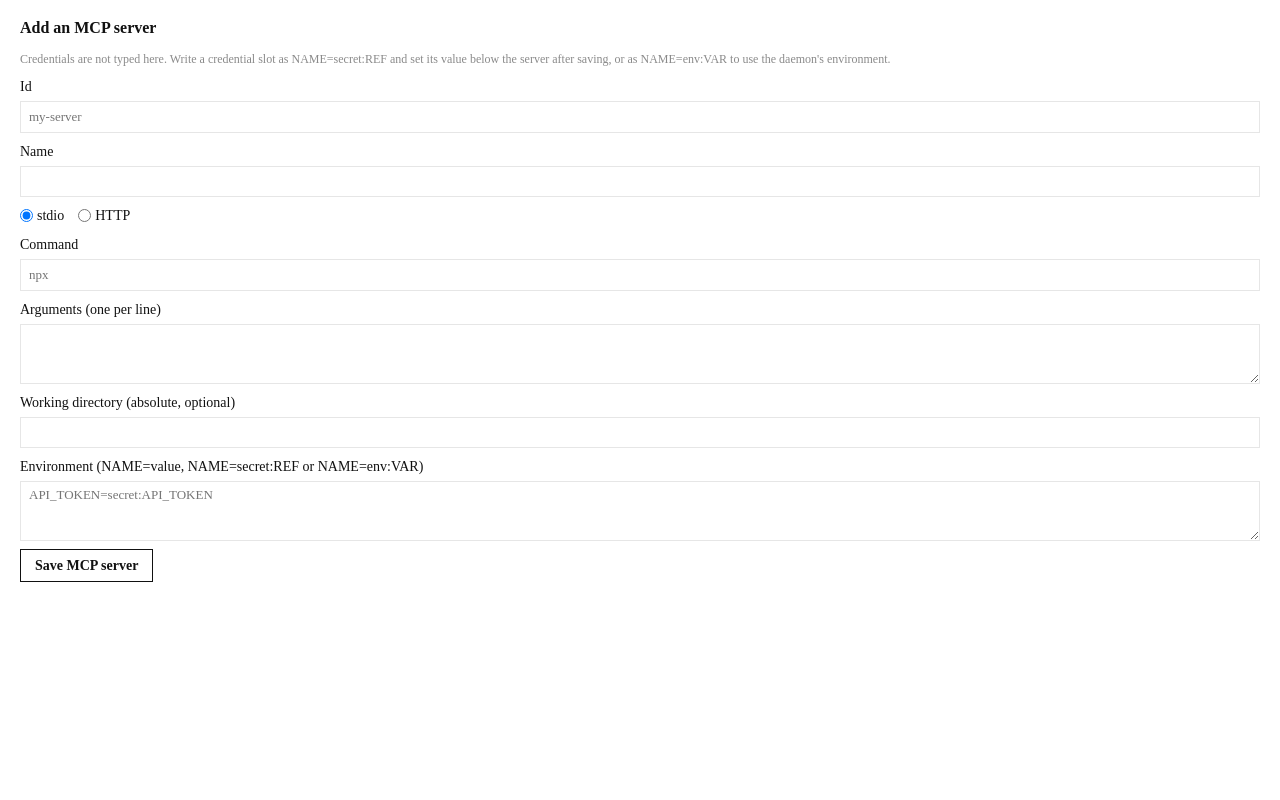
Test: McpServerForm › shows the hub's refusal
Type "search" into the field labelled "Id" at {"x": 640, "y": 117}, box [20, 101, 1260, 132]
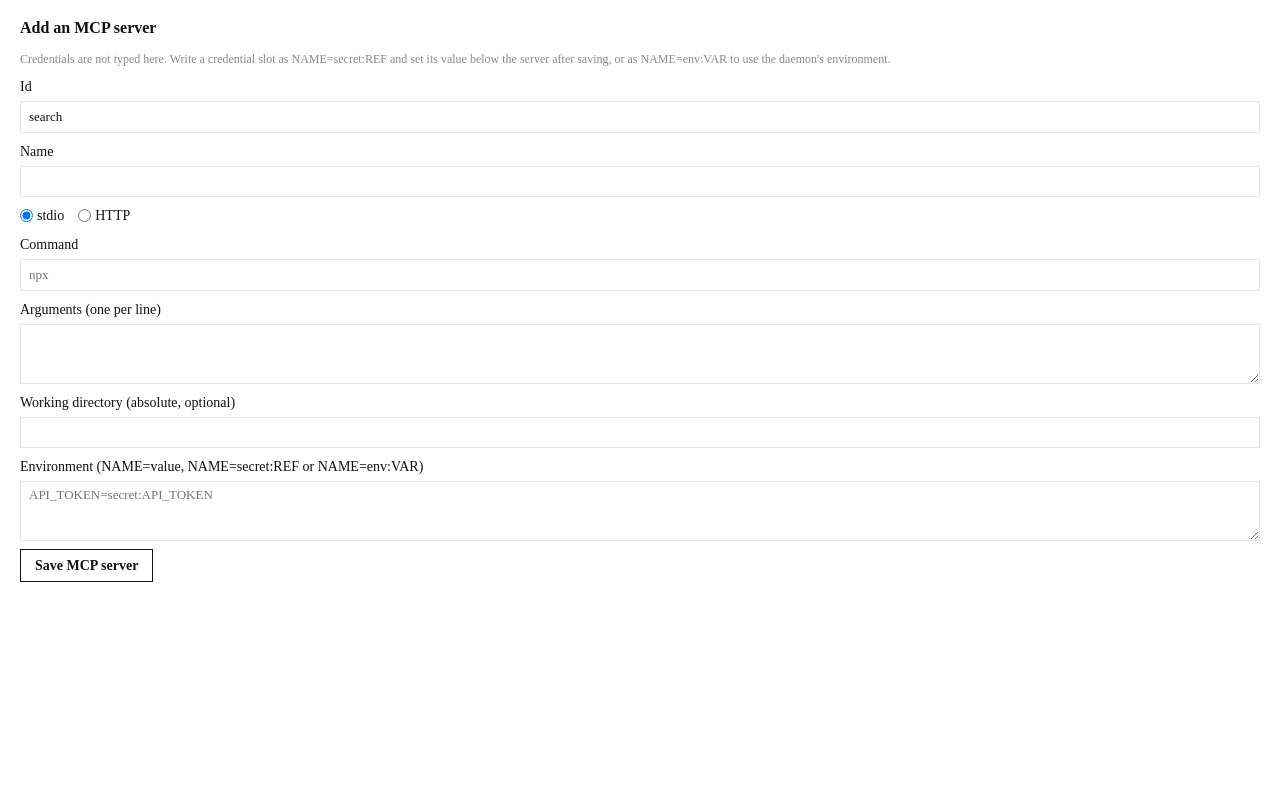
Type "Search" into the field labelled "Name" at {"x": 640, "y": 181}, box [20, 166, 1260, 197]
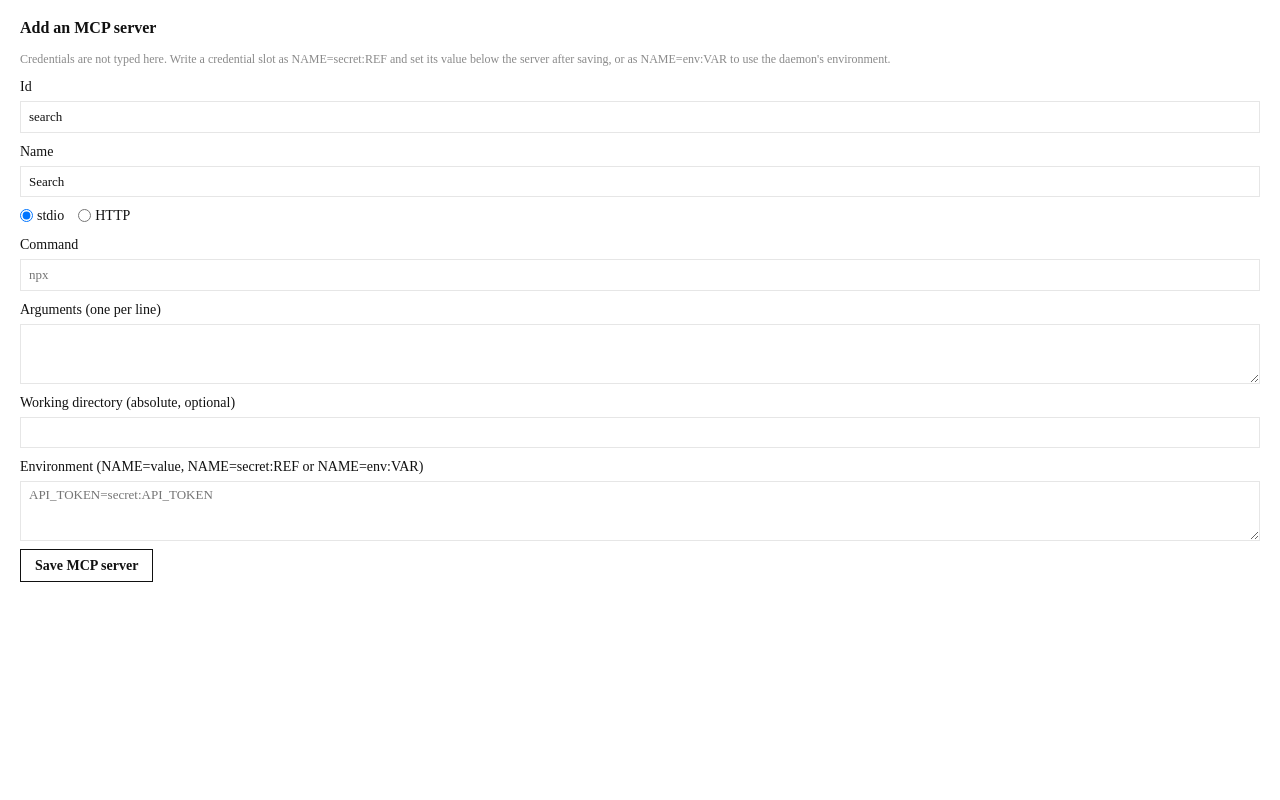
Type "node" into the field labelled "Command" at {"x": 640, "y": 275}, box [20, 259, 1260, 290]
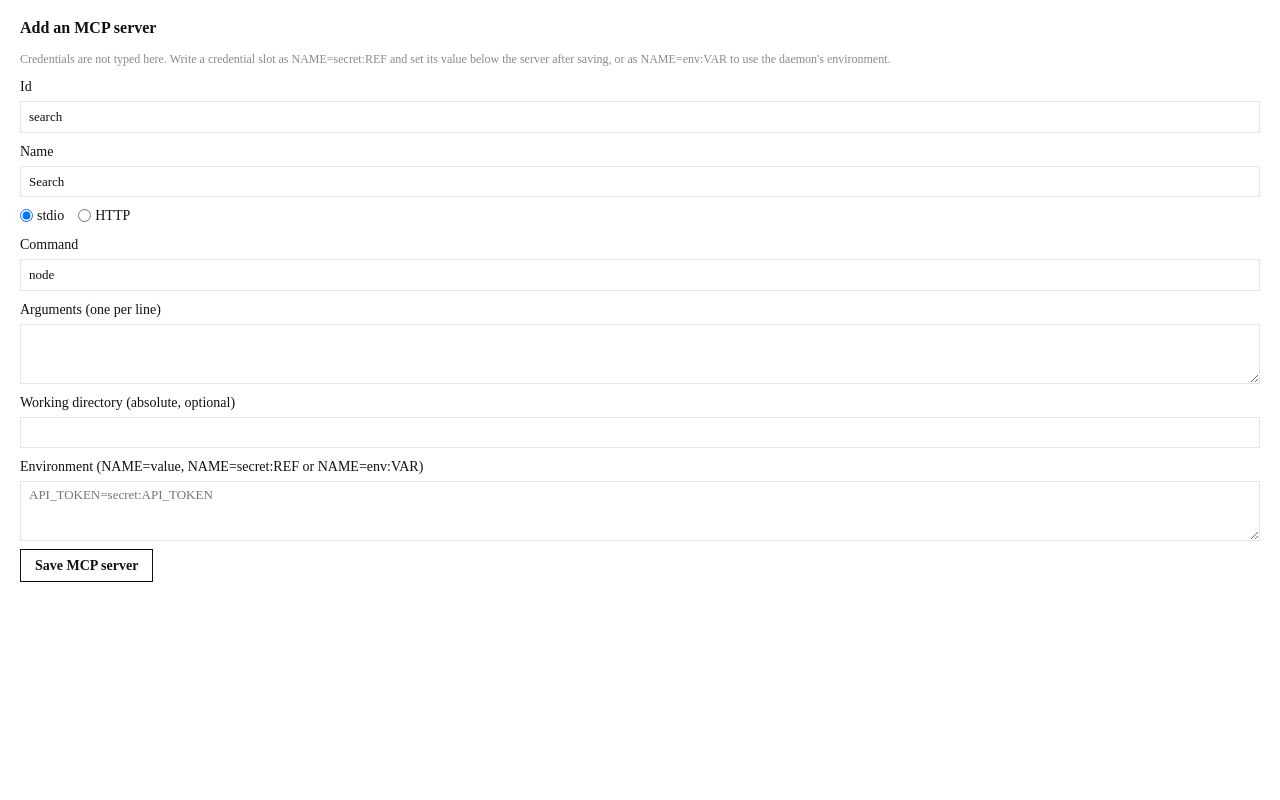
Click the button "Save MCP server" at {"x": 87, "y": 566}, box [20, 549, 153, 582]
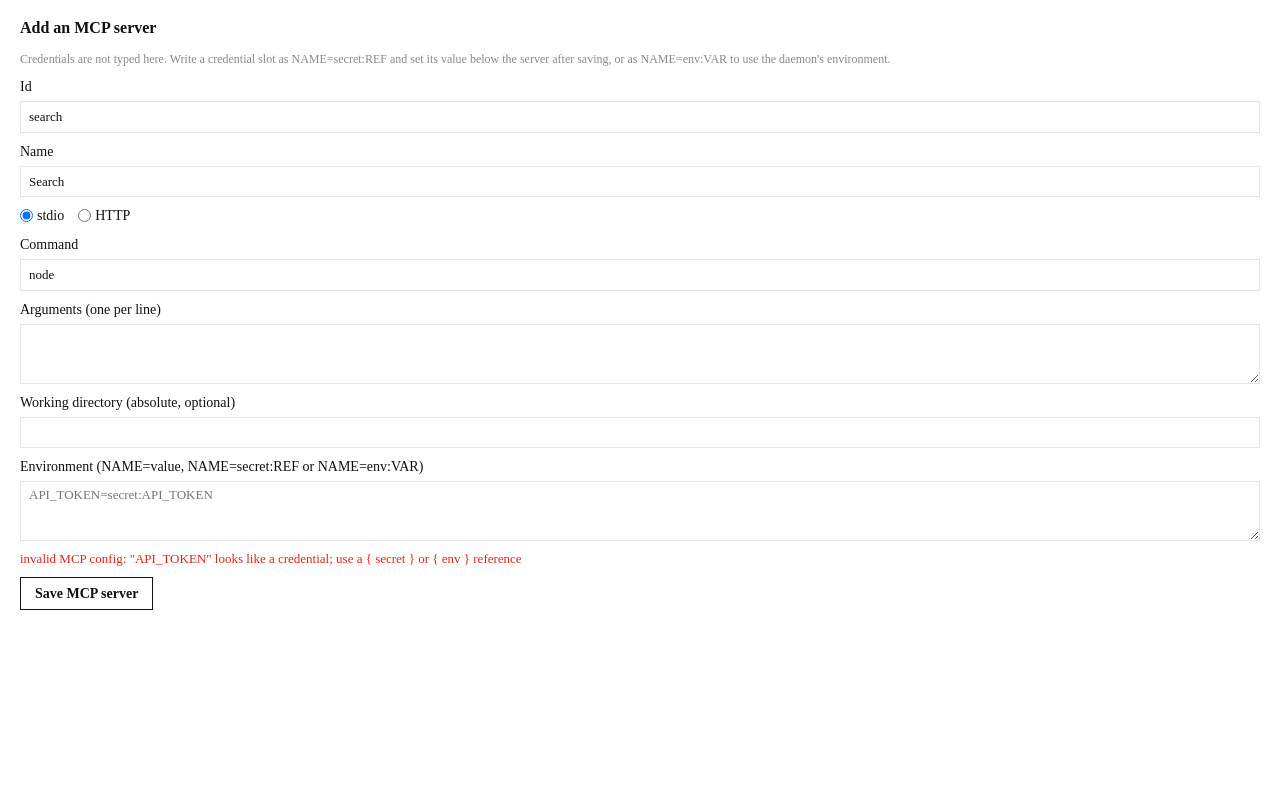
Expected: the text "looks like a credential" is shown, [20, 551, 522, 566]
